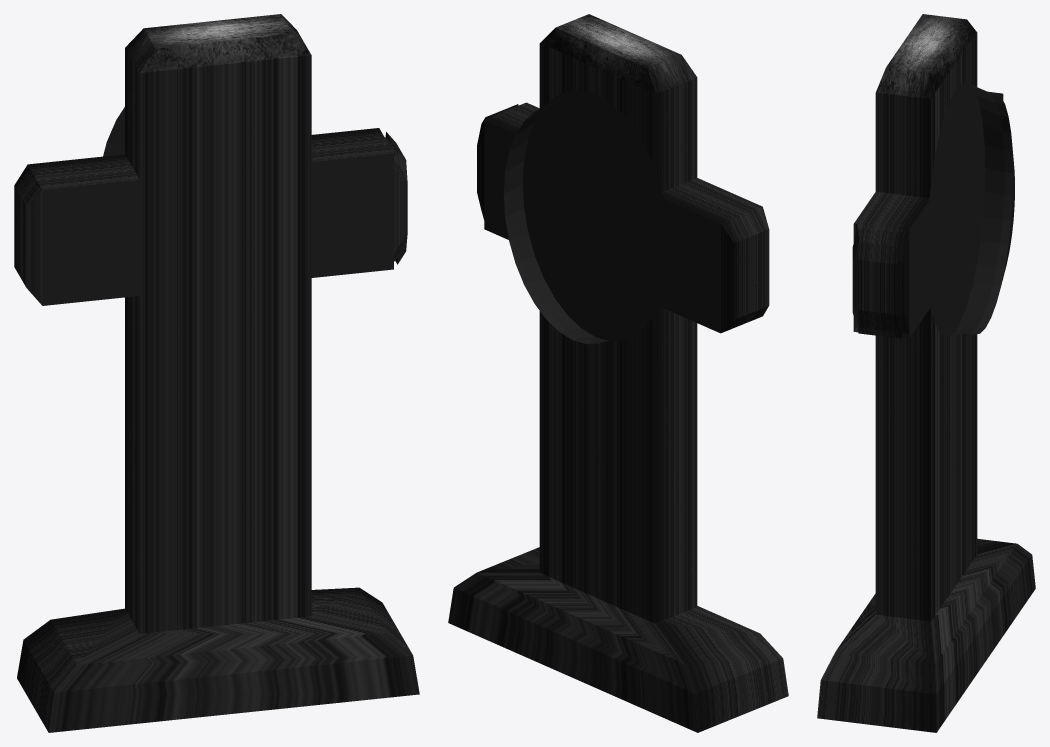
Rendered from stone1.fbx.
3 renders of one model, left to right at view 1: azimuth 30°, elevation 25°; view 2: azimuth 150°, elevation 25°; view 3: azimuth 270°, elevation 25°, orthographic. The views are drawn at different scales.
Visible parts, largest first — view 1: Plane.016; view 2: Plane.016; view 3: Plane.016.
Part boxes in pixels (left/top/right/bottom): Plane.016: left=14, top=14, right=419, bottom=732; Plane.016: left=448, top=14, right=788, bottom=732; Plane.016: left=817, top=14, right=1035, bottom=732.
Bounding box in the file's own units: 163 × 290 × 94.3.
